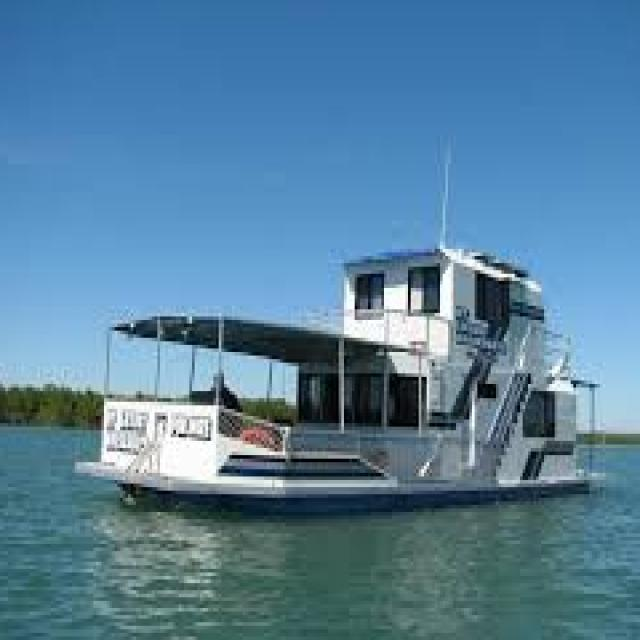houseboat: (86, 220, 613, 518)
